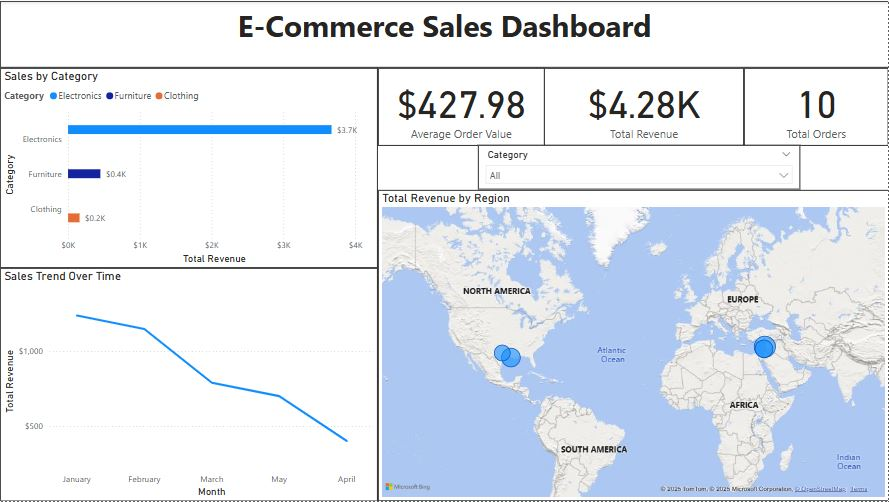

Layout of this report page (visuals, bound fields, positions):
{"tool":"powerbi","page":{"name":"Page 1","canvas":[1280,720],"ordinal":0},"visuals":[{"type":"card","fields":{"Values":["Ecommerce_Dataset.Total Revenue"]},"box":[784,96,288,112],"z":0},{"type":"card","fields":{"Values":["Ecommerce_Dataset.Average Order Value"]},"box":[544,96,240,112],"z":1000},{"type":"card","fields":{"Values":["Ecommerce_Dataset.Total Orders"]},"box":[1072,96,208,112],"z":2000},{"type":"clusteredBarChart","title":"Sales by Category","fields":{"Y":["Ecommerce_Dataset.Total Revenue"],"Category":["Ecommerce_Dataset.Category"],"Series":["Ecommerce_Dataset.Category"]},"box":[0,96,544,288],"z":3000},{"type":"lineChart","title":"Sales Trend Over Time","fields":{"Y":["Ecommerce_Dataset.Total Revenue"],"Category":["Date Table.Month"]},"box":[0,384,544,336],"z":4000},{"type":"map","fields":{"Category":["Ecommerce_Dataset.Region"],"Size":["Ecommerce_Dataset.Total Revenue"]},"box":[544,272,736,448],"z":5000},{"type":"slicer","fields":{"Values":["Ecommerce_Dataset.Category"]},"box":[688,208,464,64],"z":5001},{"type":"textbox","box":[0,0,1280,96],"z":5002}]}

Visuals, with their boxes in screenshot pixels (x1, y1, x2, y2), scaled from the page's 1280x720 canvas onto the 889x502 screenshot:
card - Ecommerce_Dataset.Total Revenue: select_region(545, 67, 745, 145)
card - Ecommerce_Dataset.Average Order Value: select_region(378, 67, 545, 145)
card - Ecommerce_Dataset.Total Orders: select_region(745, 67, 888, 145)
"Sales by Category" clusteredBarChart: select_region(0, 67, 378, 268)
"Sales Trend Over Time" lineChart: select_region(0, 268, 378, 501)
map - Ecommerce_Dataset.Region x Ecommerce_Dataset.Total Revenue: select_region(378, 190, 888, 501)
slicer - Ecommerce_Dataset.Category: select_region(478, 145, 800, 190)
textbox: select_region(0, 0, 888, 67)
